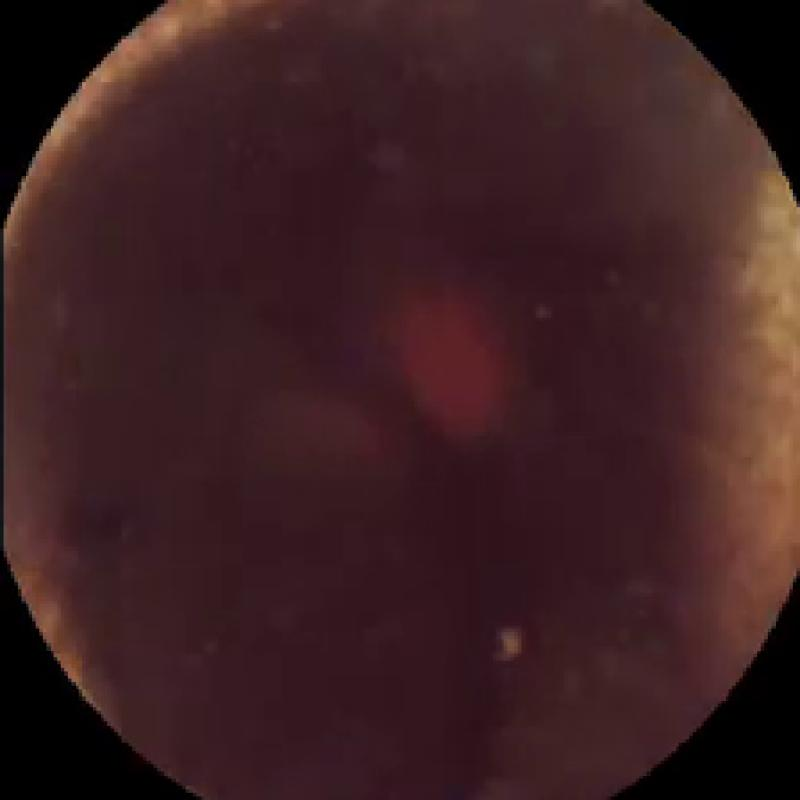bleeding: (396, 286, 504, 418)
